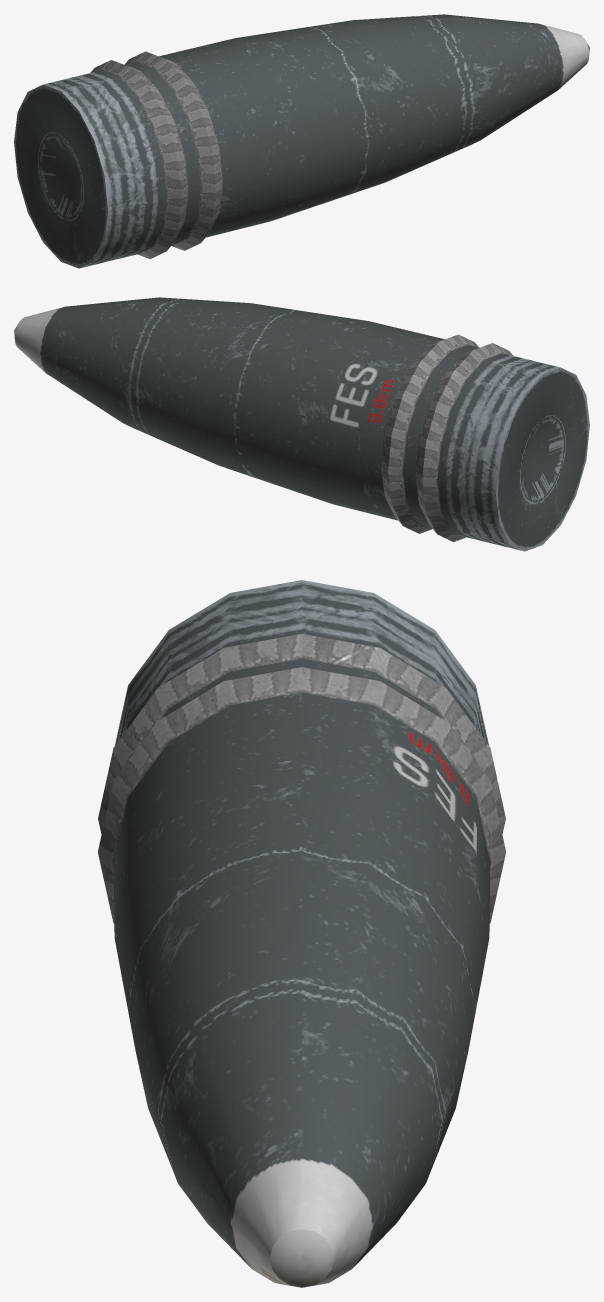
The model's file is 88mm_shell.glb.
3 renders of one model, top to bottom at view 1: azimuth 30°, elevation 25°; view 2: azimuth 150°, elevation 25°; view 3: azimuth 270°, elevation 25°, orthographic. The views are drawn at different scales.
Parts seen in each view (by area): view 1: Cylinder.001_0; view 2: Cylinder.001_0; view 3: Cylinder.001_0.
Boxes of the visible parts, x1=… form: Cylinder.001_0: x1=14, y1=14, x2=589, y2=268; Cylinder.001_0: x1=14, y1=297, x2=589, y2=551; Cylinder.001_0: x1=98, y1=580, x2=505, y2=1287.
Size of the model in its own units: 57.1 by 19.09 by 19.09.
Materials: 1 (1 with a texture image).
